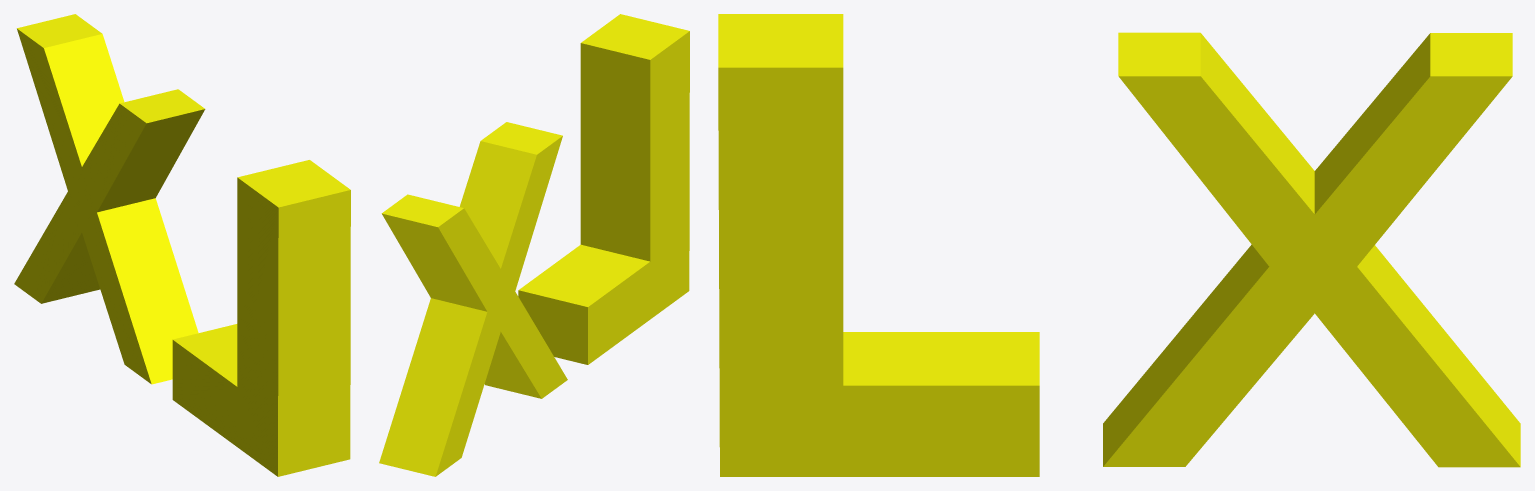
3 views of the same model, side by side, from view 1: azimuth 30°, elevation 25°; view 2: azimuth 150°, elevation 25°; view 3: azimuth 270°, elevation 25° (orthographic). The views are drawn at different scales.
Visible parts, largest first — view 1: LX letters; view 2: LX letters; view 3: LX letters.
Boxes of the visible parts, <box> form: LX letters: <box>14,14,350,476</box>; LX letters: <box>379,14,689,476</box>; LX letters: <box>718,14,1520,476</box>.
Size of the model in its own units: 60.99 by 218 by 386.
